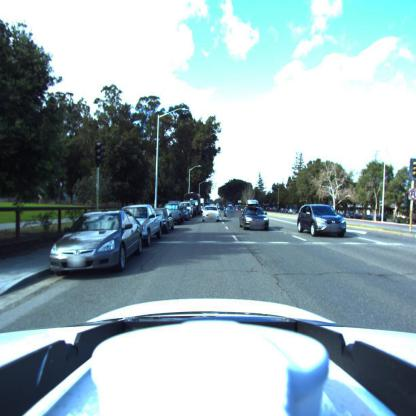car: (49, 210, 144, 276), (297, 204, 348, 238), (122, 205, 162, 245), (242, 207, 269, 230), (154, 208, 173, 234), (165, 204, 182, 227), (201, 206, 220, 223), (177, 201, 193, 221)
traffic light: (96, 142, 106, 166), (410, 158, 415, 181)
